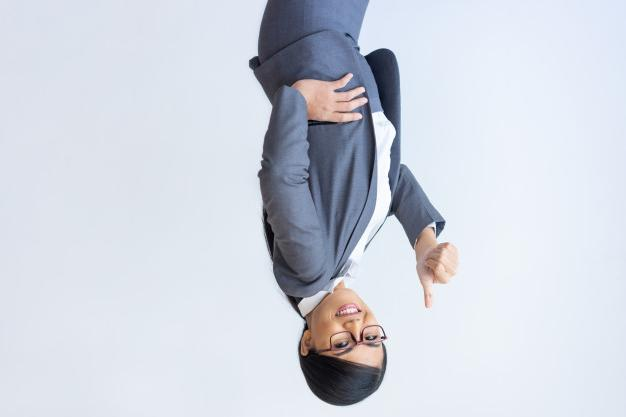thumbsdown: (423, 242, 459, 309)
